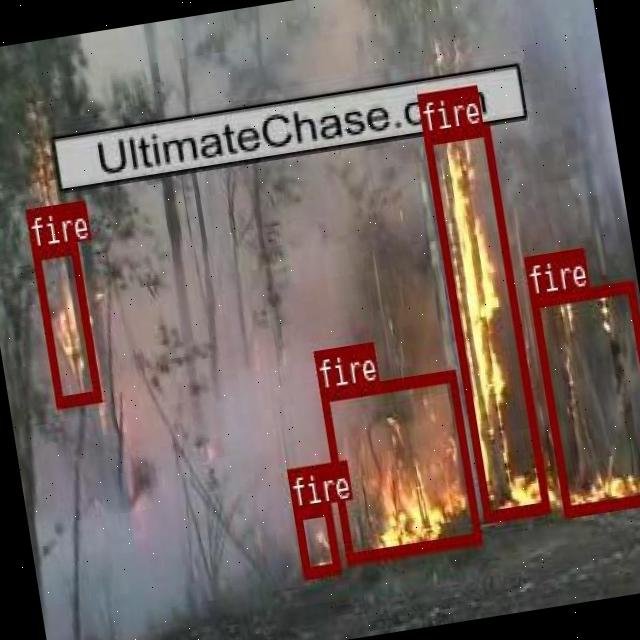fire: (422, 124, 549, 522), (318, 368, 480, 562), (529, 280, 640, 516), (31, 242, 100, 406), (293, 503, 340, 578)
